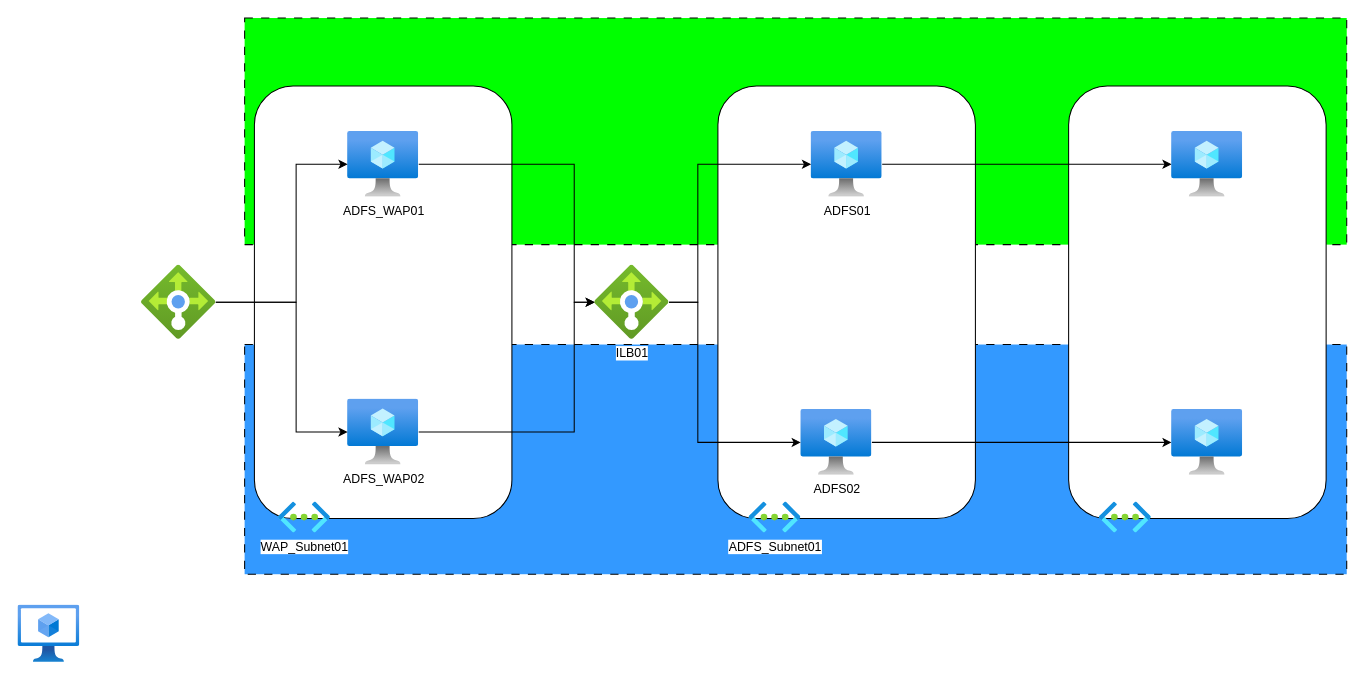
The diagram is 1365 pixels wide and 681 high, and some of its shapes have lost their labels. Each missing label, with the box of its shape:
ADDS01: (1171, 131, 1242, 197)
ADDS02: (1171, 409, 1242, 475)
ELB01: (141, 265, 215, 339)
